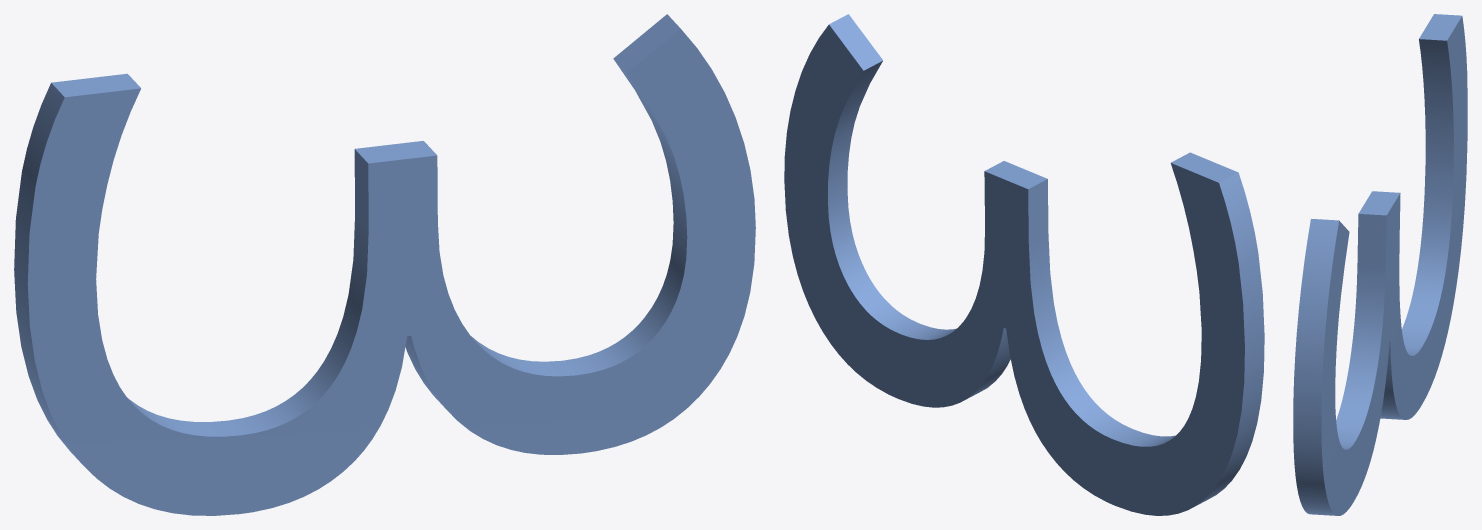
The model's file is New_Number_3.gltf.
The picture shows the model from 3 angles, left to right: view 1: azimuth 30°, elevation 25°; view 2: azimuth 150°, elevation 25°; view 3: azimuth 270°, elevation 25°; orthographic projection. The views are drawn at different scales.
Parts seen in each view (by area): view 1: Part 165; view 2: Part 165; view 3: Part 165.
Part boxes in pixels (<box>): Part 165: <box>14,14,755,515</box>; Part 165: <box>784,14,1264,515</box>; Part 165: <box>1293,14,1467,515</box>.
Size of the model in its own units: 0.00508 by 0.0033 by 0.00156.
